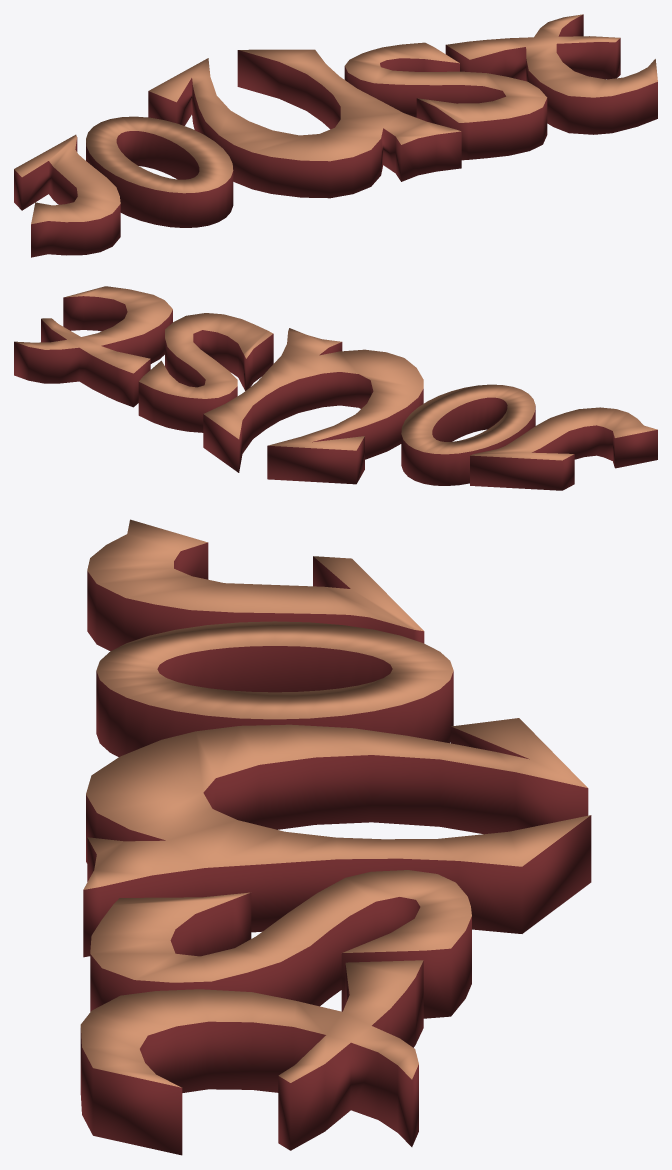
Rendered from joust title.fbx.
The picture shows the model from 3 angles, top to bottom: view 1: azimuth 30°, elevation 25°; view 2: azimuth 150°, elevation 25°; view 3: azimuth 270°, elevation 25°; orthographic projection. The views are drawn at different scales.
Visible parts, largest first — view 1: U, S, T, O, J; view 2: U, T, S, J, O; view 3: U, T, S, O, J.
Boxes of the visible parts, <box> form: U: <box>148,49,461,198</box>; S: <box>344,42,547,160</box>; T: <box>445,14,657,134</box>; O: <box>86,116,233,227</box>; J: <box>14,134,120,257</box>; U: <box>203,328,423,484</box>; T: <box>14,286,172,407</box>; S: <box>138,313,273,432</box>; J: <box>470,407,657,490</box>; O: <box>401,384,535,485</box>; U: <box>83,718,591,957</box>; T: <box>80,960,423,1155</box>; S: <box>90,870,471,1018</box>; O: <box>96,621,453,756</box>; J: <box>87,519,424,651</box>.
Bounding box in the file's own units: 8.49 × 0.4843 × 3.23.
